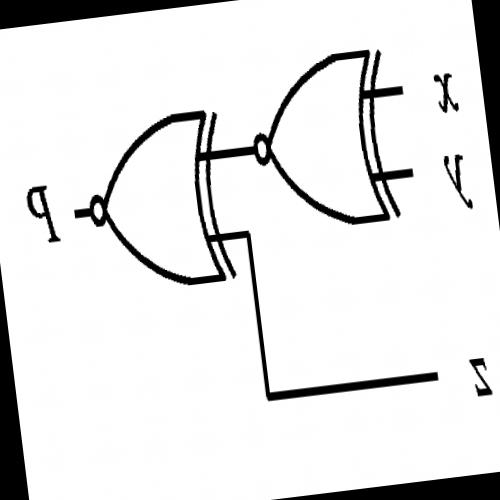xnor: (71, 72, 243, 328), (237, 35, 410, 254)
